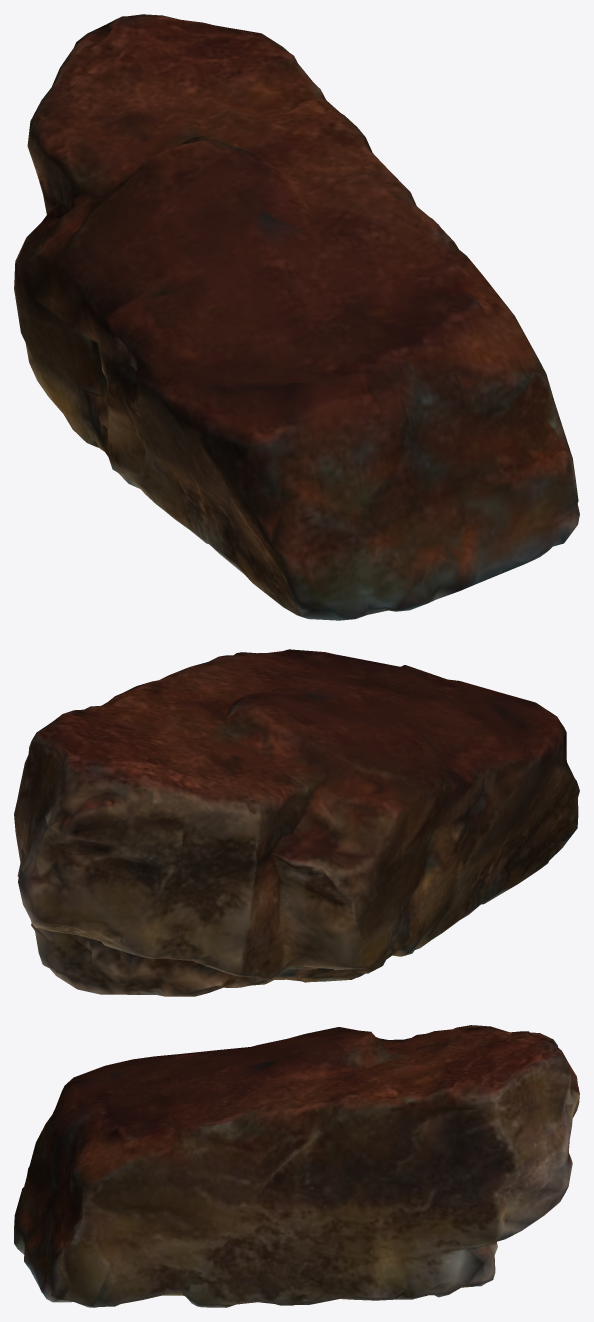
The model's file is rock_07.glb.
3 views of the same model, one above another, from view 1: azimuth 30°, elevation 25°; view 2: azimuth 150°, elevation 25°; view 3: azimuth 270°, elevation 25° (orthographic). The views are drawn at different scales.
Parts seen in each view (by area): view 1: rock_07; view 2: rock_07; view 3: rock_07.
Boxes of the visible parts, box(x1,y1,x2,y2) form: rock_07: box(14, 14, 579, 620); rock_07: box(14, 649, 579, 996); rock_07: box(14, 1025, 579, 1307).
Bounding box in the file's own units: 0.1681 × 0.1437 × 0.3199.
Materials: 1 (1 with a texture image).
